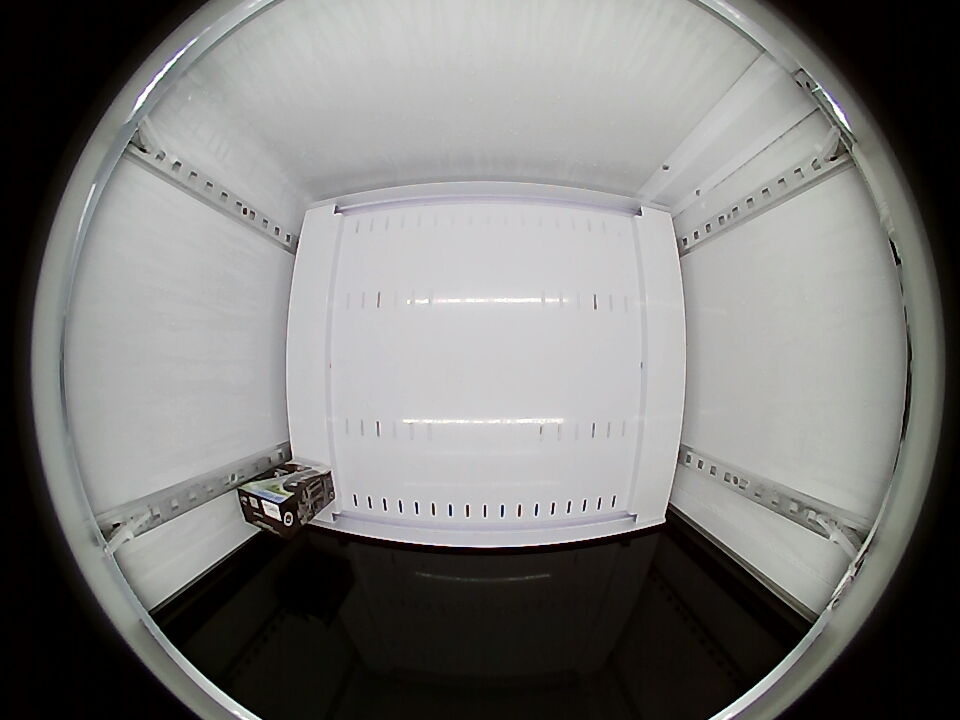weitanai2: (236, 479, 305, 538)
